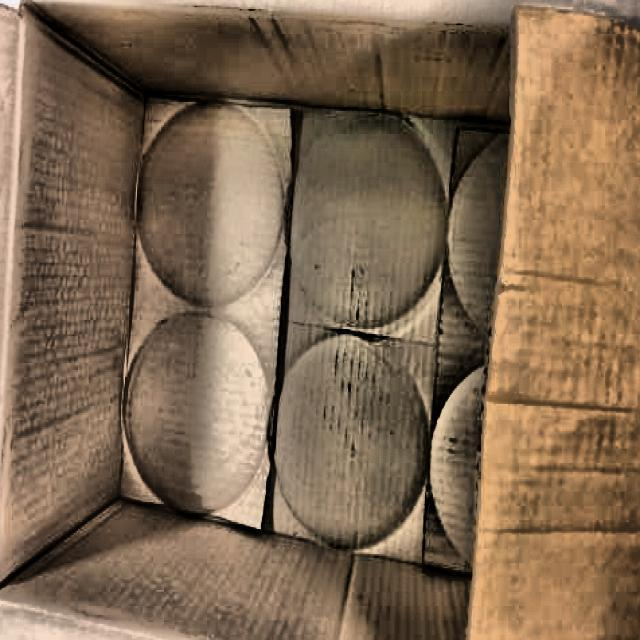cardboard: (0, 0, 640, 640), (462, 2, 640, 640)
